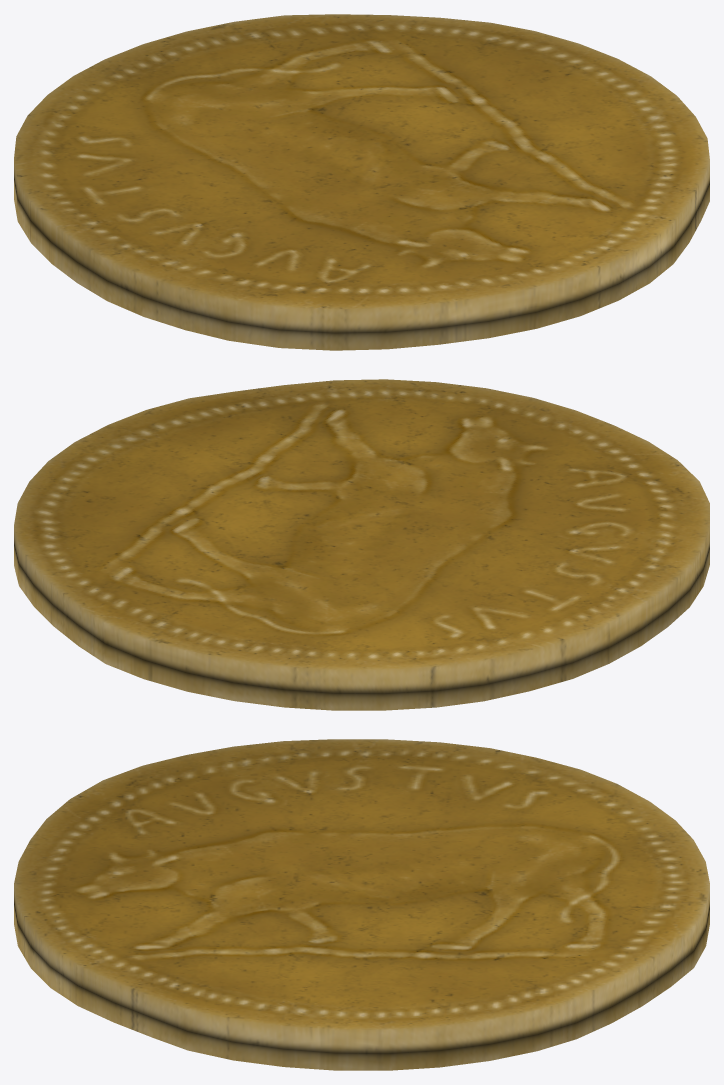
File: gold_coin_exp5.FBX
3 views of the same model, one above another, from view 1: azimuth 30°, elevation 25°; view 2: azimuth 150°, elevation 25°; view 3: azimuth 270°, elevation 25° (orthographic).
Parts seen in each view (by area): view 1: gold_coin_exp5; view 2: gold_coin_exp5; view 3: gold_coin_exp5.
Part boxes in pixels (<box>): gold_coin_exp5: <box>14,14,709,350</box>; gold_coin_exp5: <box>14,379,709,710</box>; gold_coin_exp5: <box>14,739,709,1070</box>.
Size of the model in its own units: 6.34 by 0.4127 by 6.41.
